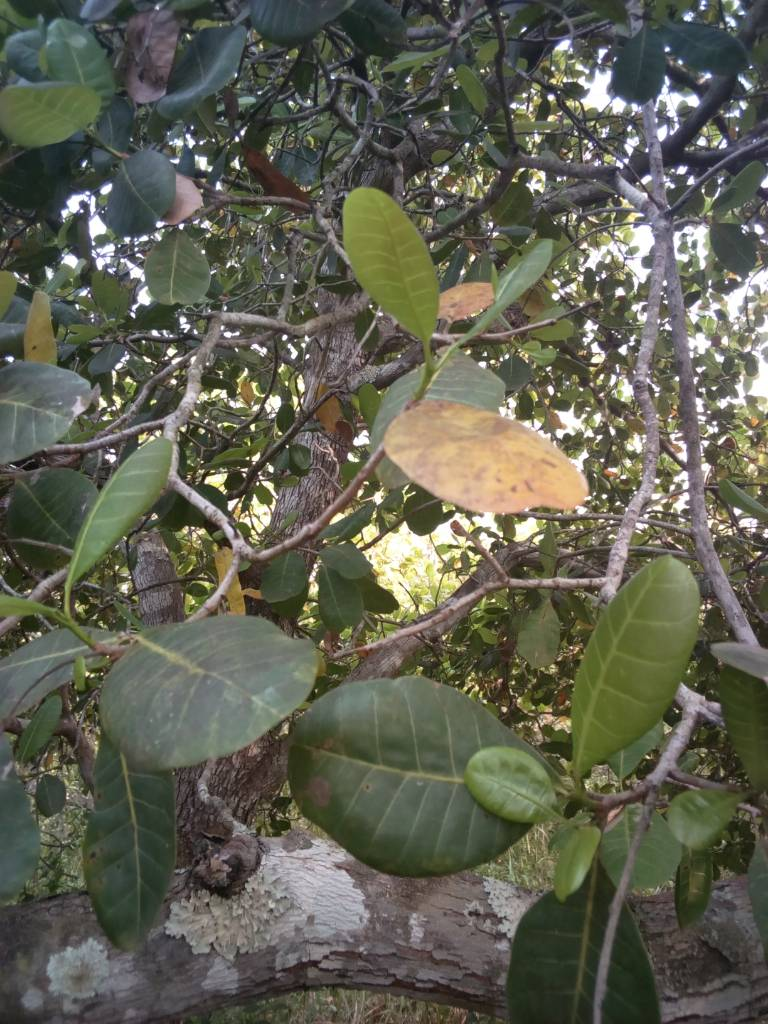Alternariose: (380, 397, 591, 519), (77, 730, 179, 952)
